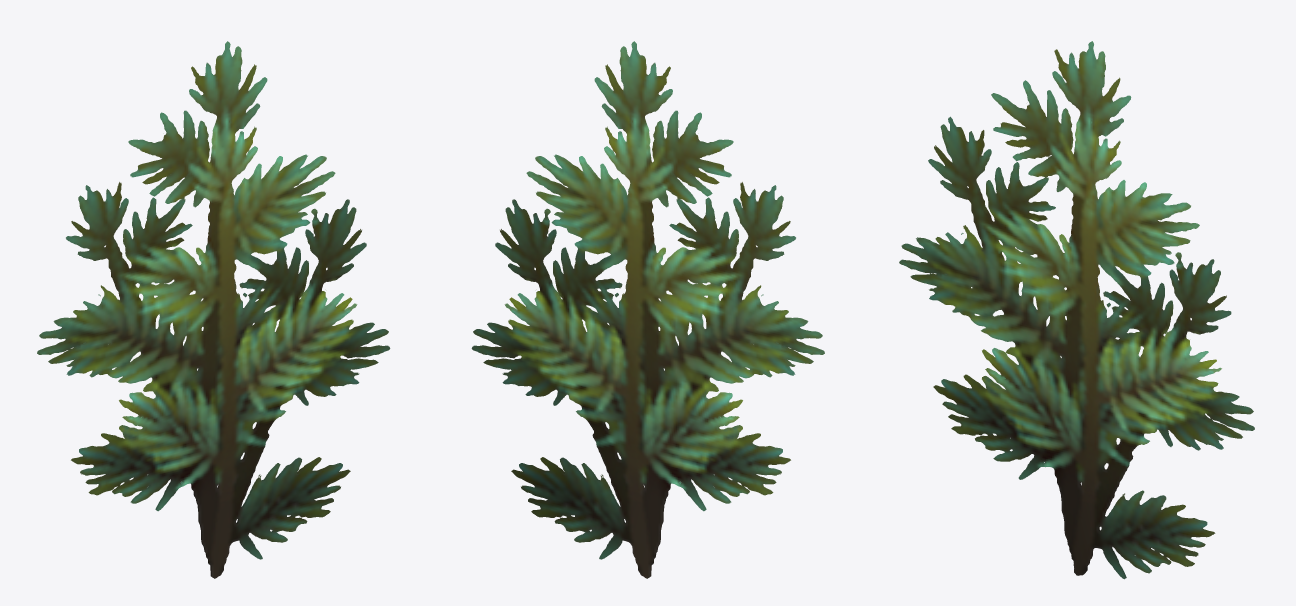
The model's file is painted-pine-1.glb.
3 views of the same model, side by side, from view 1: azimuth 30°, elevation 25°; view 2: azimuth 150°, elevation 25°; view 3: azimuth 330°, elevation 25° (orthographic).
Bounding box in the file's own units: 7.55 × 10.32 × 0.04.
1 material, 1 textured.
